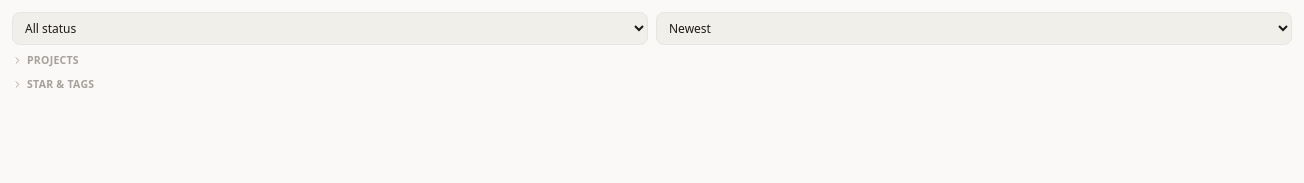
Test case: FilterRow pill context menu › right-clicking a project pill opens the menu and focuses the first action
Click the button "Projects" at point(53, 60), box [12,53,1292,69]
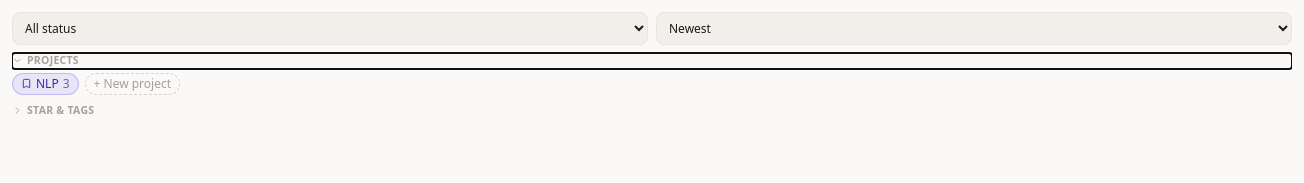
Right-click the button "NLP 3" at point(45, 84), box [12,73,78,95]
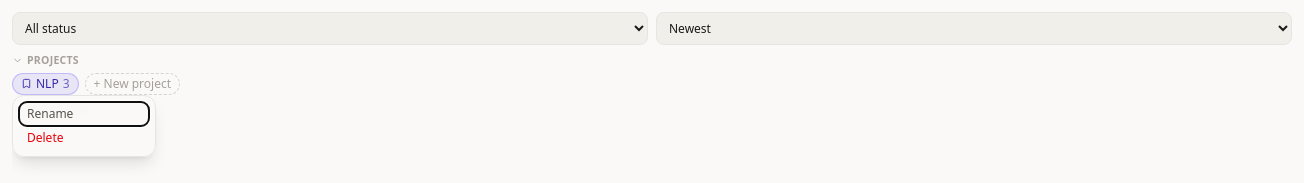
Check: the menu named "NLP options" is shown, box [12,95,156,157]
Check: the menu item "Delete" is shown, box [19,126,149,150]
